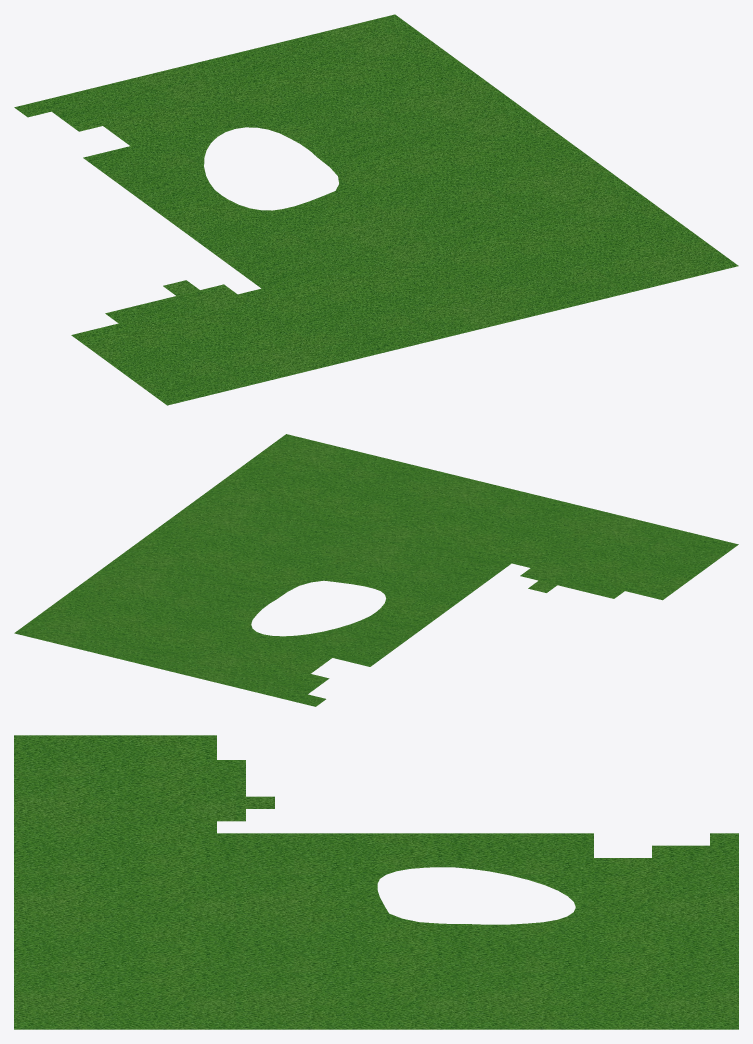
File: cource05grassF04.obj
3 views of the same model, one above another, from view 1: azimuth 30°, elevation 25°; view 2: azimuth 150°, elevation 25°; view 3: azimuth 270°, elevation 25° (orthographic). The views are drawn at different scales.
Size of the model in its own units: 1200 by 0 by 1250.
